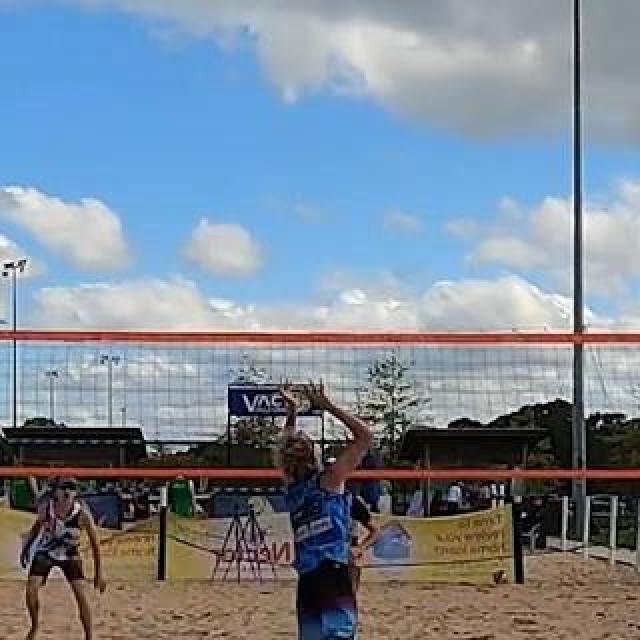volleyball: (494, 568, 510, 586)
